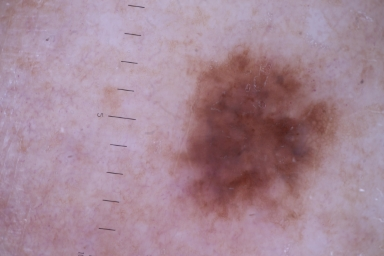melanoma: (177, 53, 336, 221)
